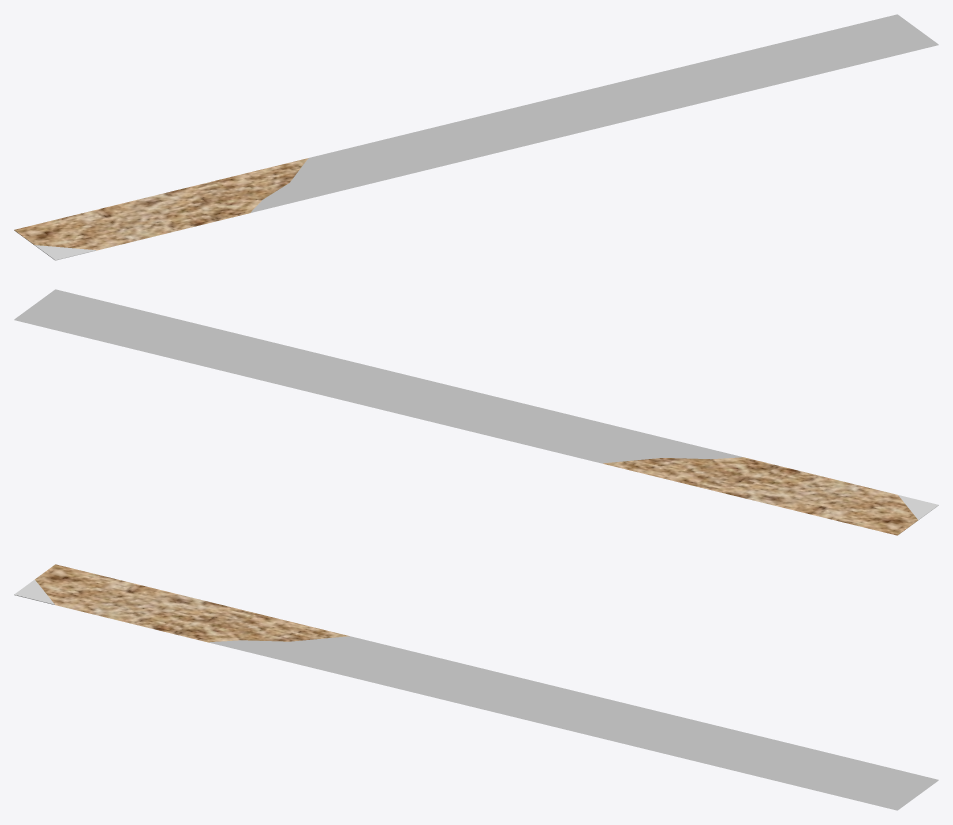
The model's file is 자막종이.FBX.
3 renders of one model, top to bottom at view 1: azimuth 30°, elevation 25°; view 2: azimuth 150°, elevation 25°; view 3: azimuth 330°, elevation 25°, orthographic.
Visible parts, largest first — view 1: Group001; view 2: Group001; view 3: Group001.
Boxes of the visible parts, bbox=[...] form: Group001: bbox=[14, 14, 938, 260]; Group001: bbox=[14, 289, 938, 535]; Group001: bbox=[14, 564, 938, 810].
Size of the model in its own units: 1601 by 130 by 0.8261.
